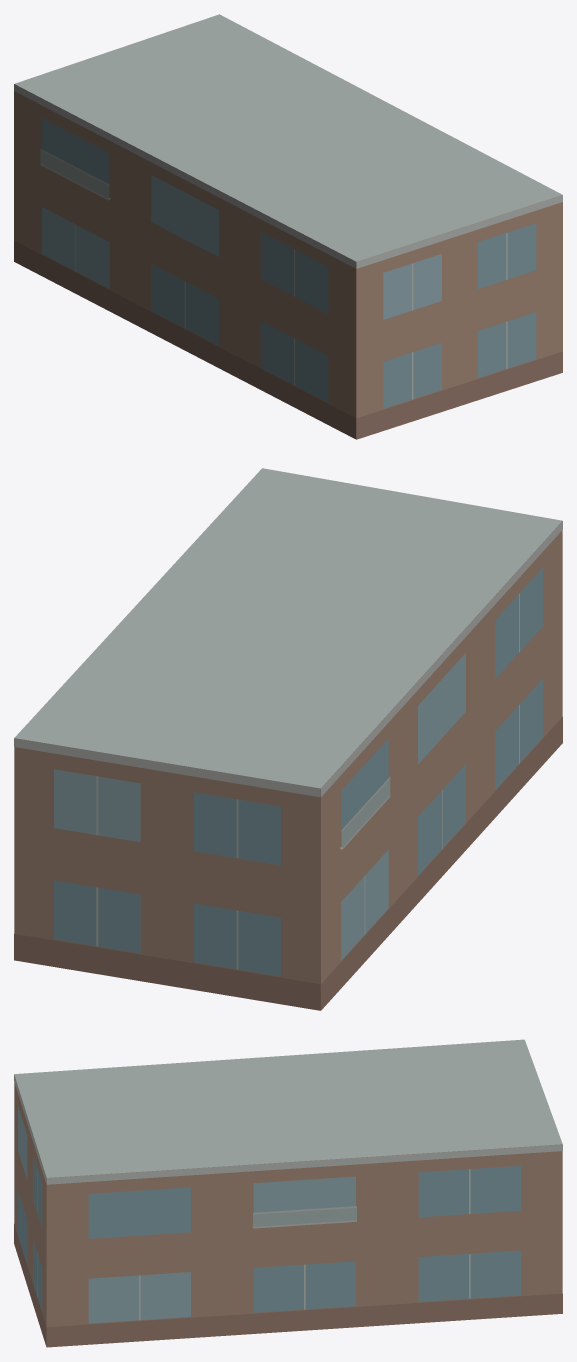
The model's file is survey-upis-32609824.glb.
3 views of the same model, one above another, from view 1: azimuth 30°, elevation 25°; view 2: azimuth 150°, elevation 25°; view 3: azimuth 270°, elevation 25° (orthographic). The views are drawn at different scales.
Visible parts, largest first — view 1: survey-upis-32609824.tmp; view 2: survey-upis-32609824.tmp; view 3: survey-upis-32609824.tmp.
Boxes of the visible parts, left/top/right/bottom form: survey-upis-32609824.tmp: left=14, top=14, right=562, bottom=439; survey-upis-32609824.tmp: left=14, top=468, right=562, bottom=1010; survey-upis-32609824.tmp: left=14, top=1039, right=562, bottom=1347.
Bounding box in the file's own units: 10.7 × 6.1 × 17.91.
